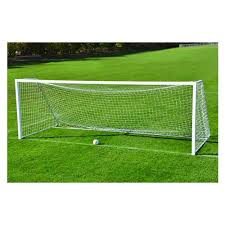goal: (14, 76, 197, 159)
